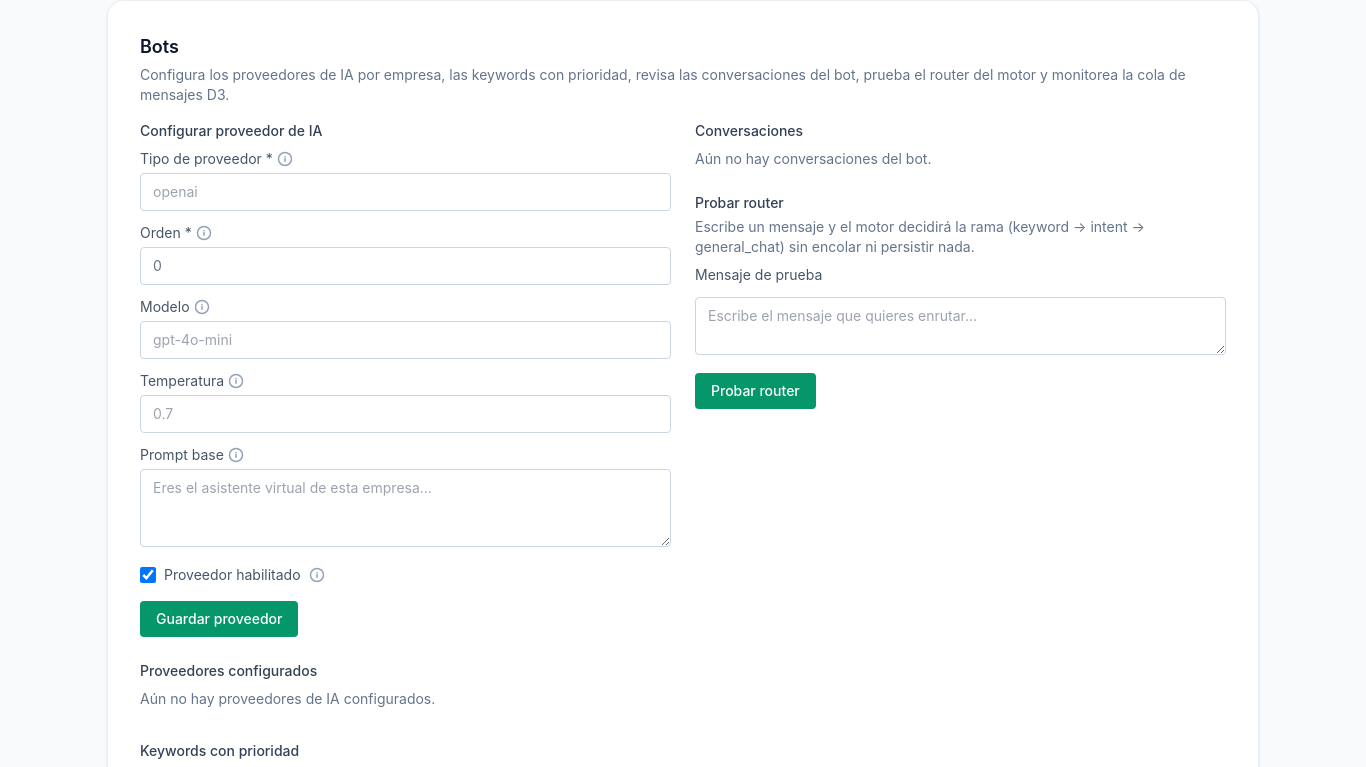
Scenario: BotsSection › valida el tipo de proveedor obligatorio
Expected: the form "Configurar proveedor de IA" is shown, [140, 121, 671, 637]
Click the button "Guardar proveedor" at (219, 619), box [140, 601, 298, 637]
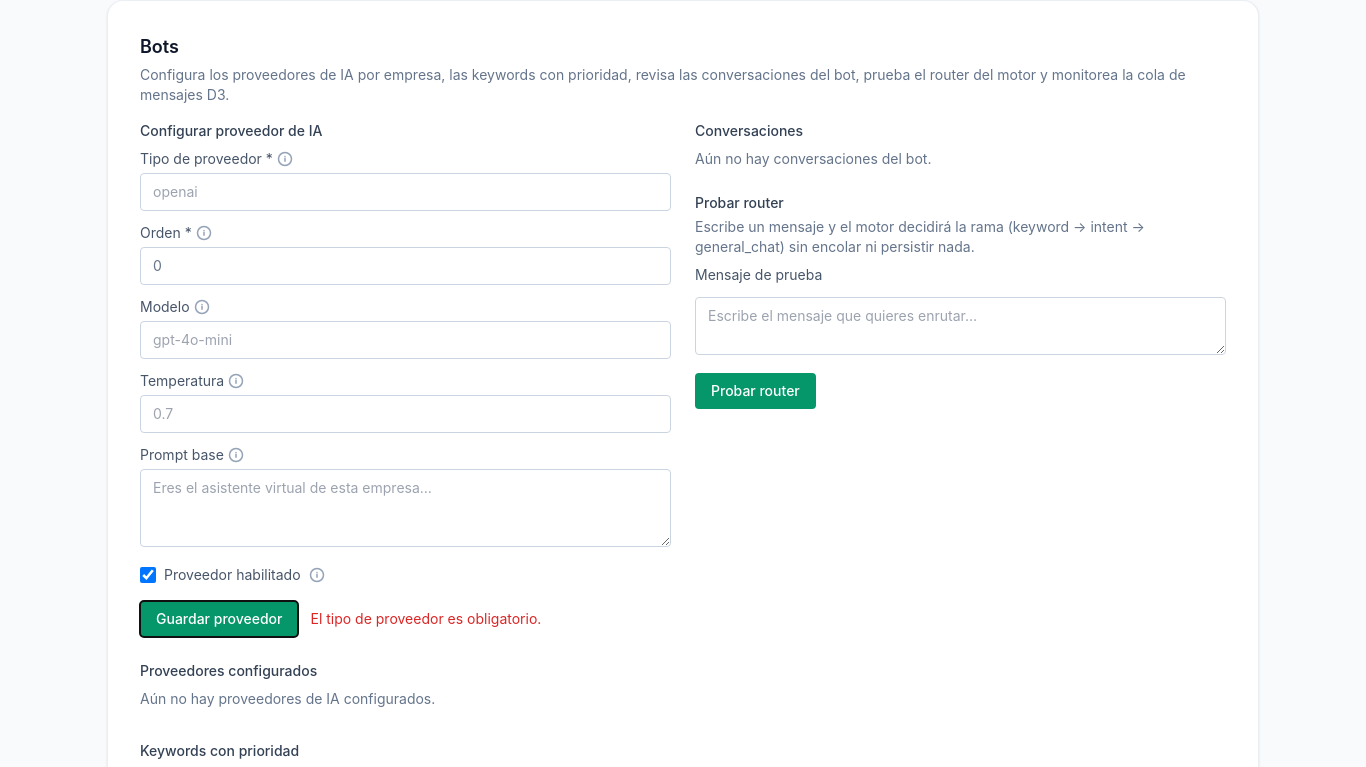
Expected: the text "El tipo de proveedor es obligatorio." is shown, [310, 610, 541, 627]
